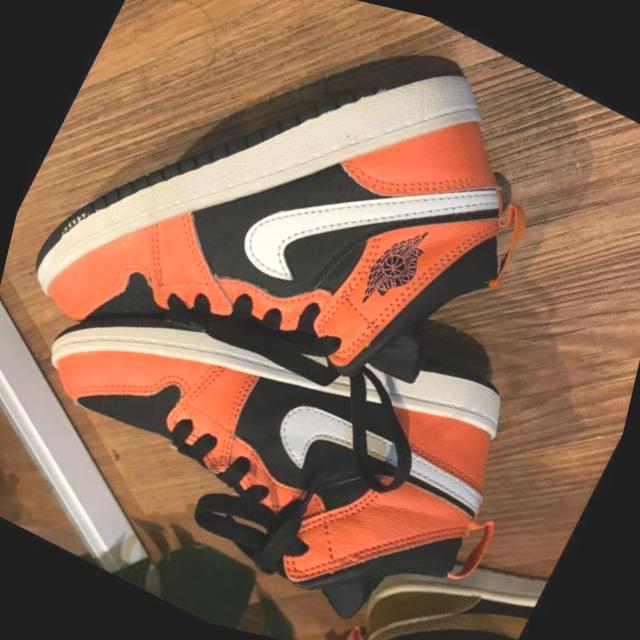nike_fake_jordan: (0, 0, 591, 505), (0, 175, 566, 640)
